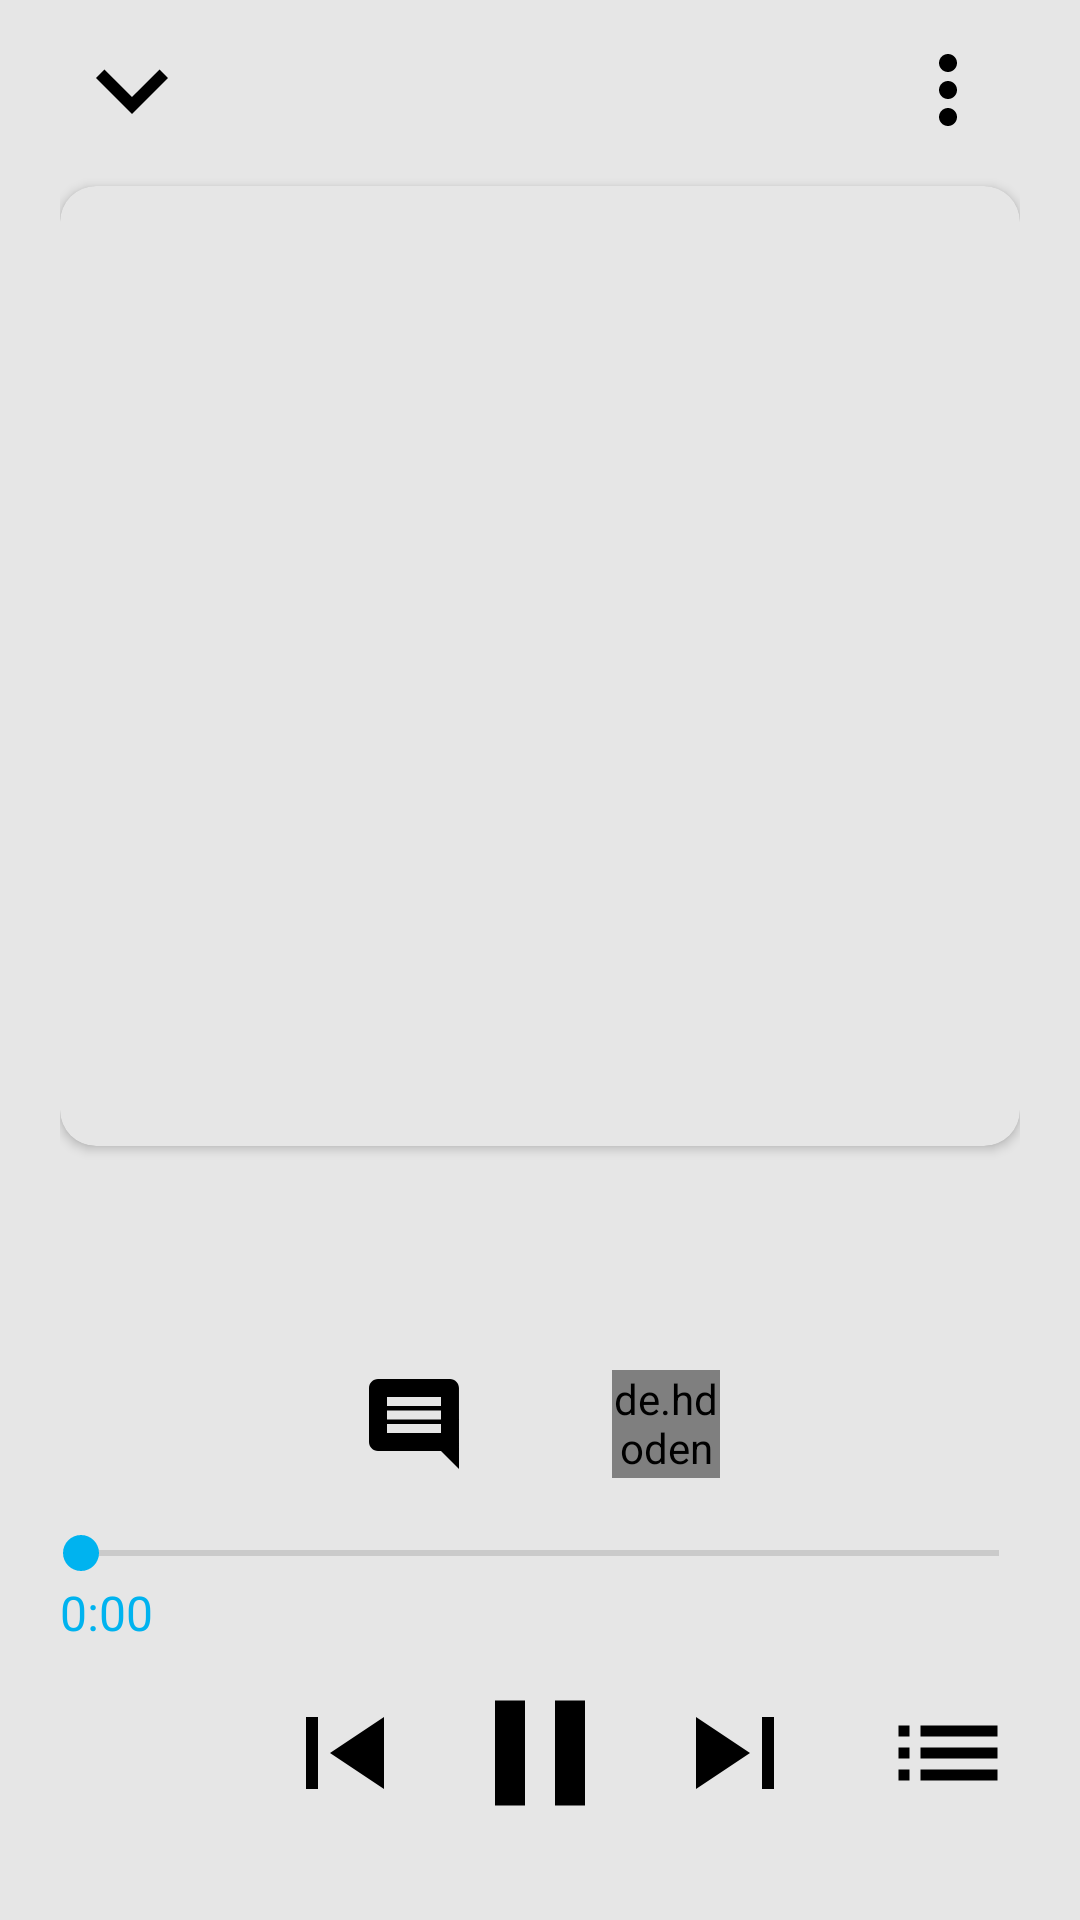

Icons on this 1080×1920 Android screen, each with its box as Rect(x1, y1, x2, y2):
comment: Rect(369, 1379, 459, 1469)
keyboard arrow down: Rect(96, 69, 168, 114)
list: Rect(898, 1725, 998, 1781)
more vert: Rect(939, 54, 957, 126)
pause: Rect(495, 1700, 585, 1806)
skip next: Rect(696, 1717, 774, 1789)
skip previous: Rect(306, 1717, 384, 1789)
